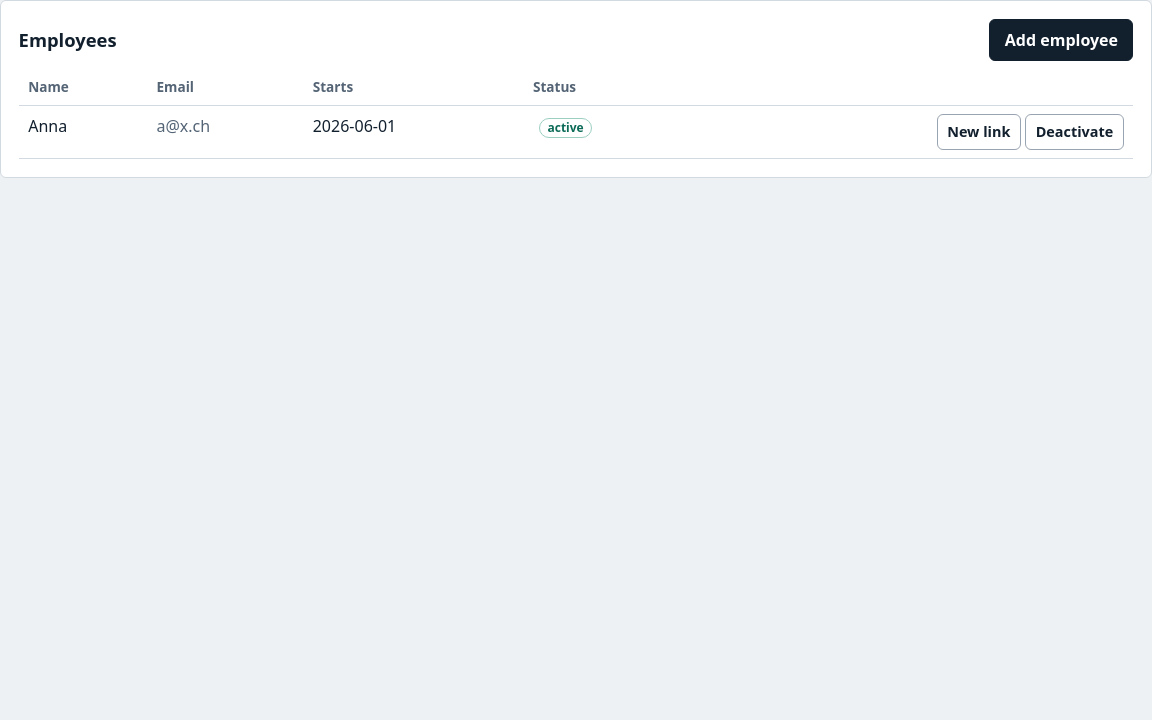
Test: shows the list first and opens the add-employee form in a dialog prefilled with the company week
The width and height of the screenshot is (1152, 720).
Expected: the text "Anna" is shown, [19,106,147,158]
Click the button "Add employee": (1061, 40) [989,19,1133,61]
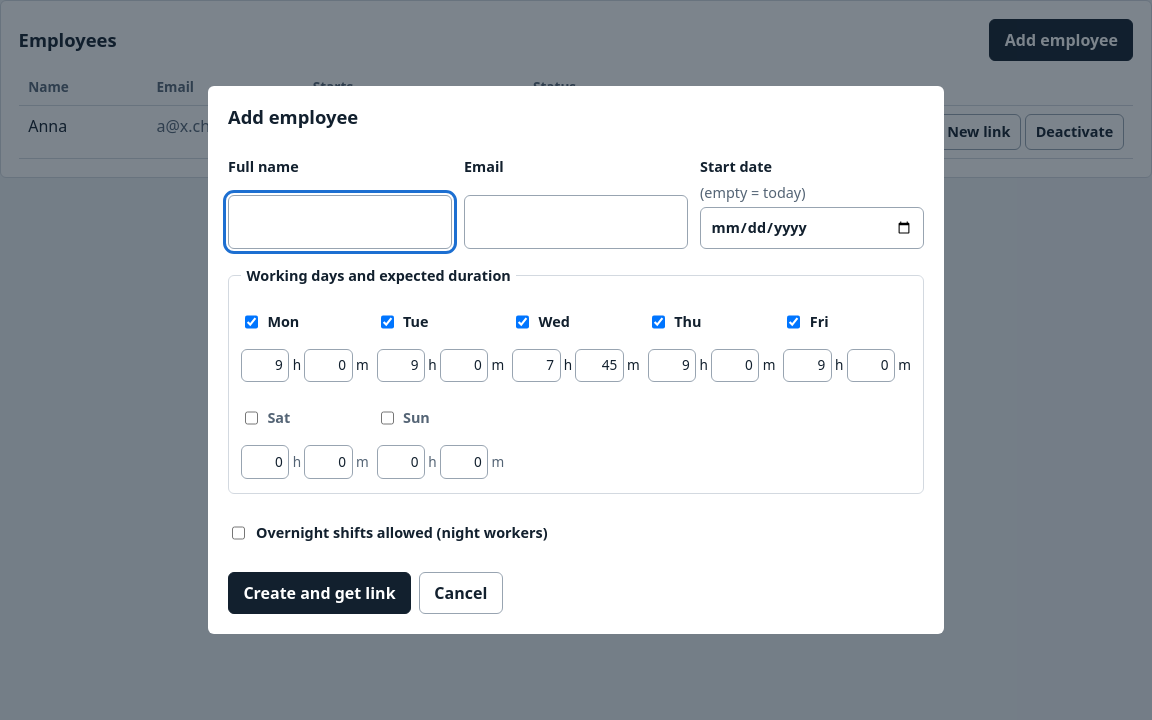
Expected: the dialog "Add employee" is shown
Expected: the number field named "Wednesday minutes" holds "45", [575,349,624,382]
Expected: the number field named "Monday hours" holds "9", [241,349,290,382]
Press Escape in the dialog
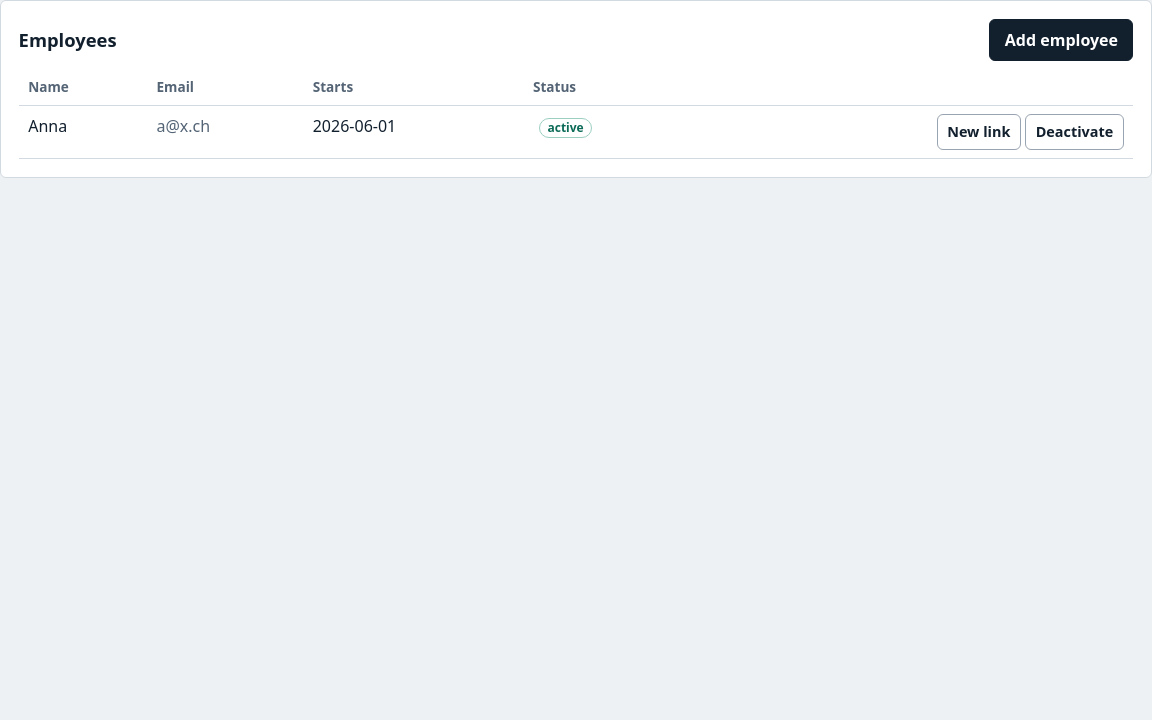
Expected: the dialog is gone
